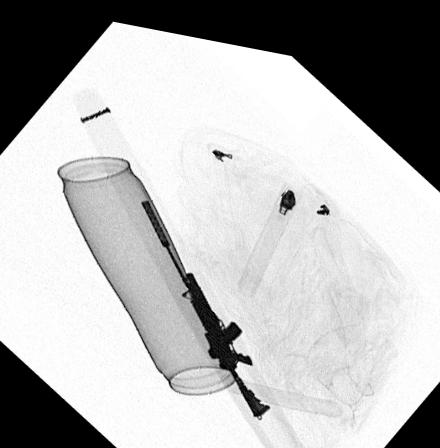Gun: (137, 193, 271, 408)
